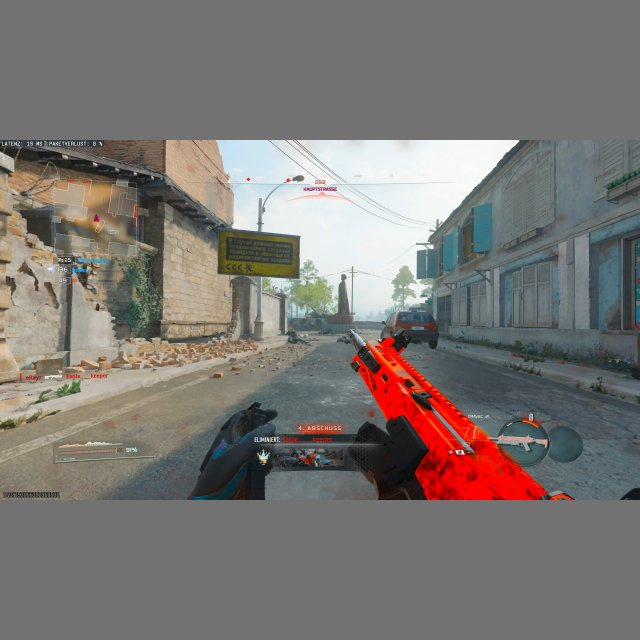player: (286, 328, 302, 344)
